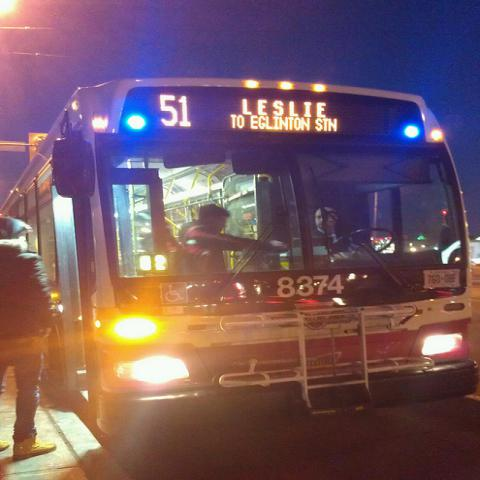bus: (3, 78, 478, 434)
